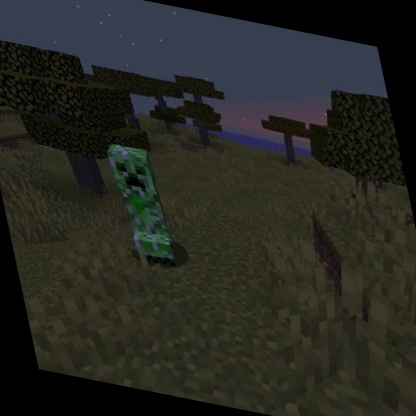creeper: (101, 137, 186, 276)
